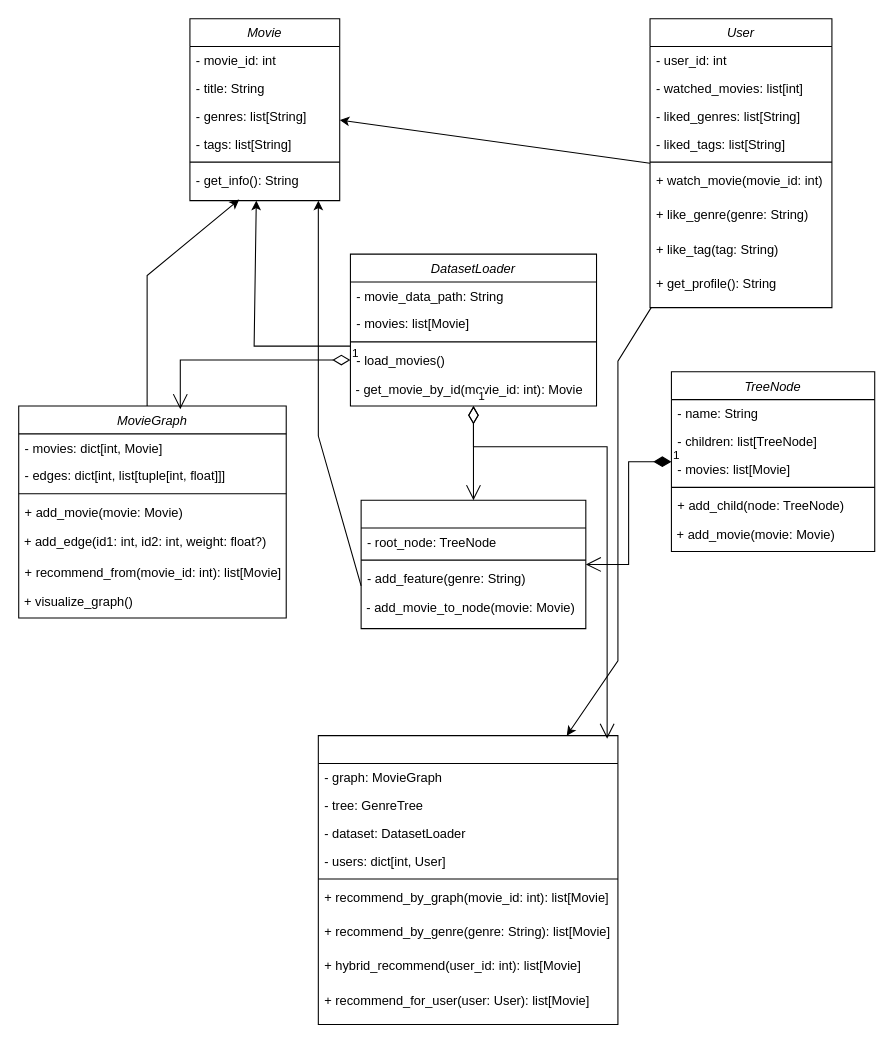
Image size: 893x1043. Some labels were removed from this diagram. Each missing label, with the box of its shape:
GenreTree: (360, 499, 586, 629)
Recommender: (317, 735, 618, 1025)
